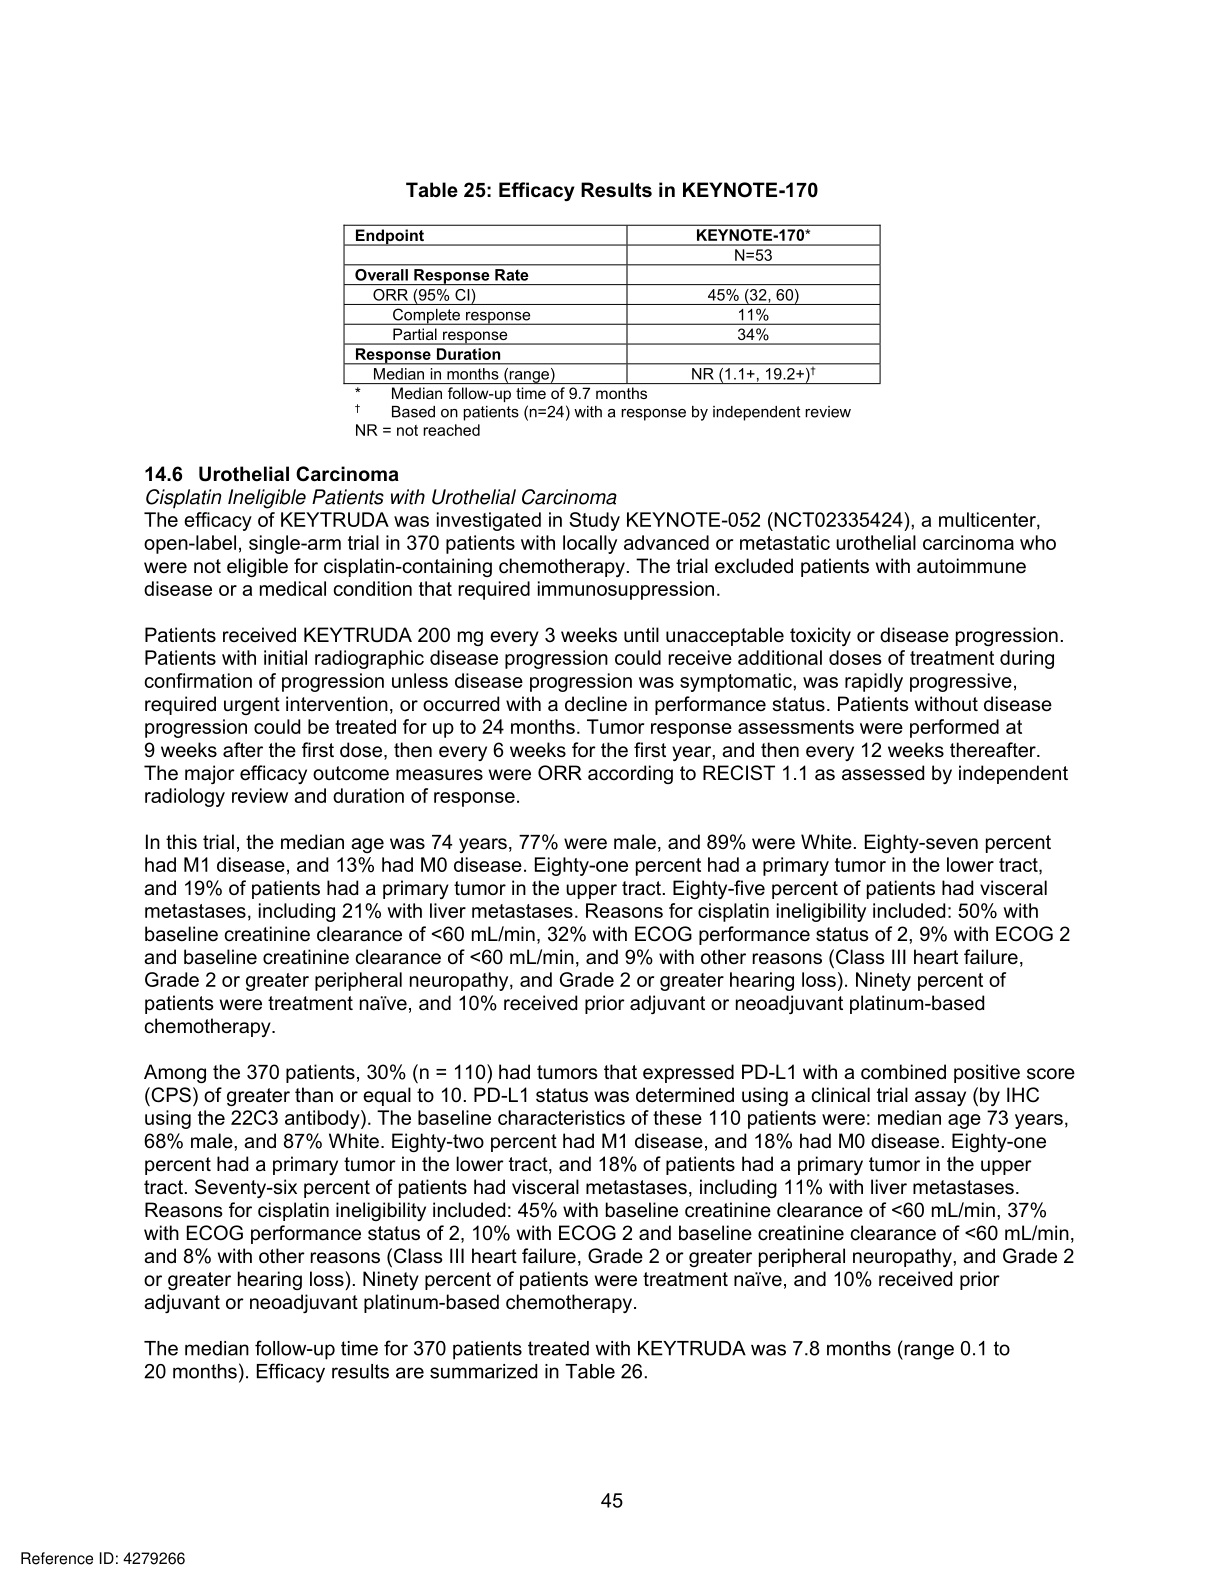full_lined: (343, 224, 881, 384)
